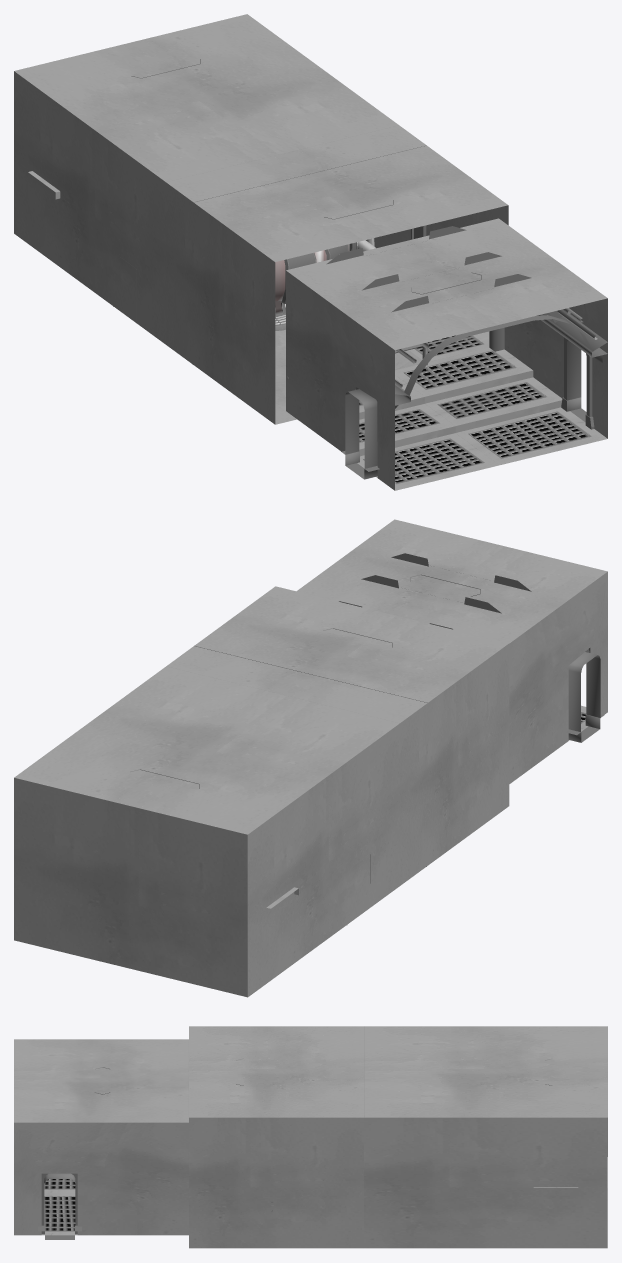
Rendered from MSH_Fusion_reactor_room_L3_R1_optimized.fbx.
3 views of the same model, one above another, from view 1: azimuth 30°, elevation 25°; view 2: azimuth 150°, elevation 25°; view 3: azimuth 270°, elevation 25° (orthographic). The views are drawn at different scales.
Visible parts, largest first — view 1: lightmap1, lightmap0, lightmap-1; view 2: lightmap1, lightmap-1, lightmap0; view 3: lightmap1, lightmap-1.
Part boxes in pixels (box(x1,y1,x2,y2)): lightmap1: box(14, 14, 607, 490); lightmap0: box(113, 59, 607, 408); lightmap-1: box(345, 340, 586, 479); lightmap1: box(14, 519, 607, 997); lightmap-1: box(568, 652, 600, 742); lightmap0: box(130, 553, 531, 883); lightmap1: box(14, 1026, 607, 1248); lightmap-1: box(44, 1173, 75, 1239).
Size of the model in its own units: 10.47 by 6.82 by 28.01.
3 materials, 2 textured.
